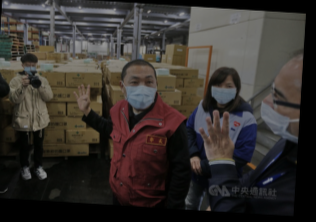with_mask: (258, 77, 299, 142), (122, 71, 157, 110), (209, 80, 237, 103), (22, 61, 36, 75)
